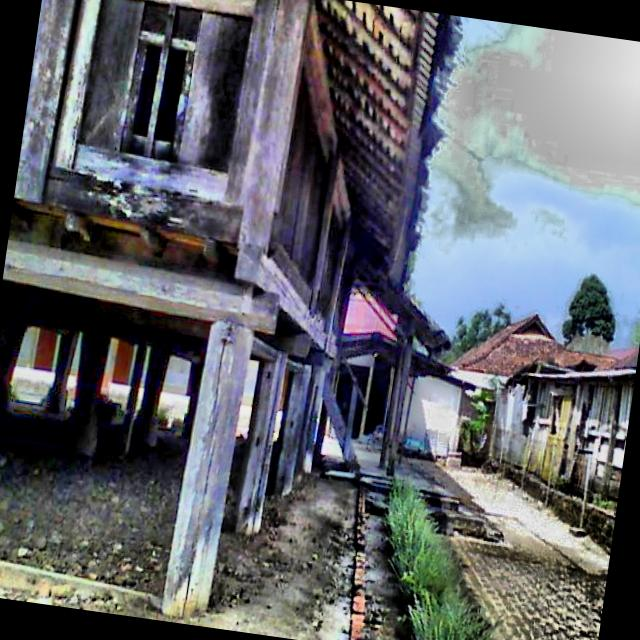column: (162, 325, 253, 618), (234, 347, 287, 536), (273, 364, 310, 495), (133, 348, 170, 443), (74, 332, 112, 415), (41, 334, 78, 409), (125, 346, 147, 418)
roof: (318, 0, 451, 362)
wall: (8, 0, 353, 355)
window: (120, 31, 197, 163)
